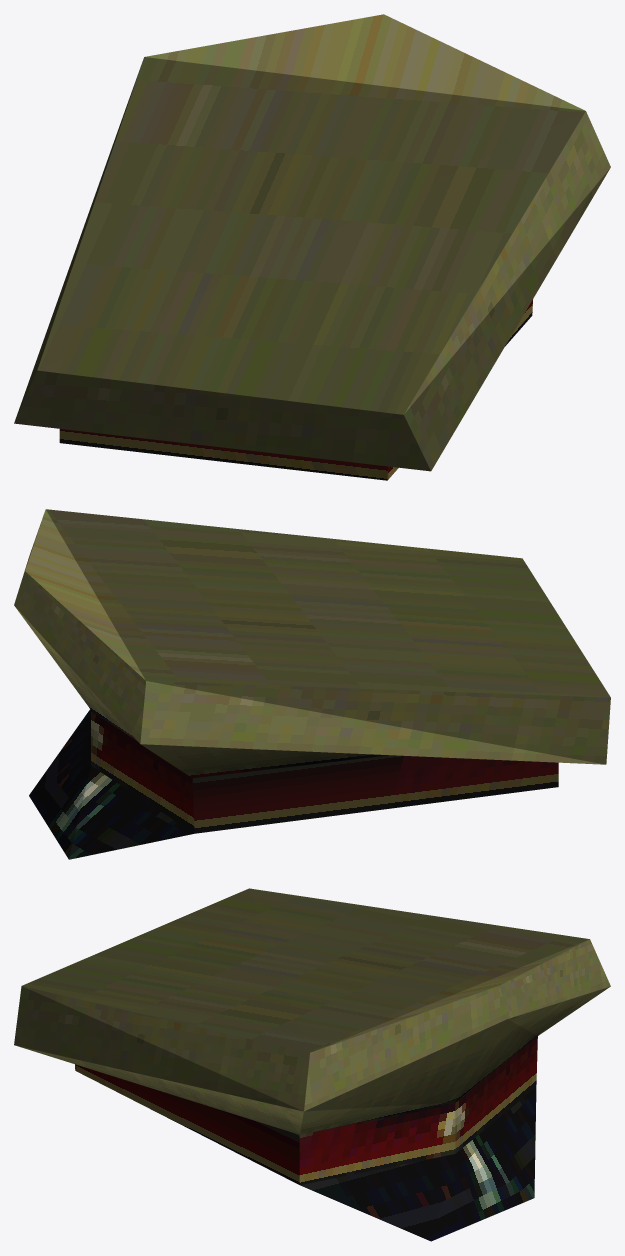
File: primary_029.glb
3 renders of one model, top to bottom at view 1: azimuth 30°, elevation 25°; view 2: azimuth 150°, elevation 25°; view 3: azimuth 270°, elevation 25°, orthographic. The views are drawn at different scales.
Visible parts, largest first — view 1: Object; view 2: Object; view 3: Object.
Boxes of the visible parts, x1=… form: Object: x1=14, y1=14, x2=610, y2=480; Object: x1=14, y1=509, x2=610, y2=859; Object: x1=14, y1=888, x2=610, y2=1241.
Bounding box in the file's own units: 0.3856 × 0.1709 × 0.3835.
4 materials, 4 textured.
